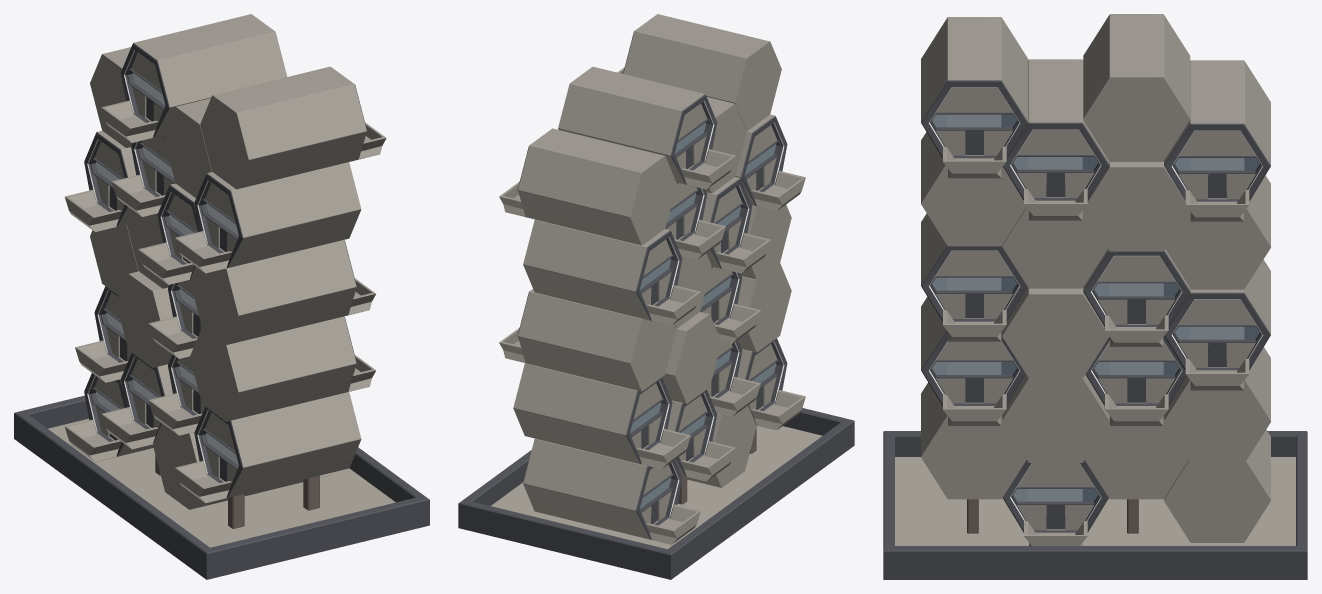
Rendered from MOD_ShortBuilding_B.fbx.
The picture shows the model from 3 angles, left to right: view 1: azimuth 30°, elevation 25°; view 2: azimuth 150°, elevation 25°; view 3: azimuth 270°, elevation 25°; orthographic projection. The views are drawn at different scales.
Parts seen in each view (by area): view 1: MOD_ShortBuilding_B; view 2: MOD_ShortBuilding_B; view 3: MOD_ShortBuilding_B.
Boxes of the visible parts, bbox=[...] form: MOD_ShortBuilding_B: bbox=[14, 14, 429, 579]; MOD_ShortBuilding_B: bbox=[458, 14, 854, 579]; MOD_ShortBuilding_B: bbox=[883, 14, 1307, 579].
Size of the model in its own units: 4414 by 8149 by 6601.
